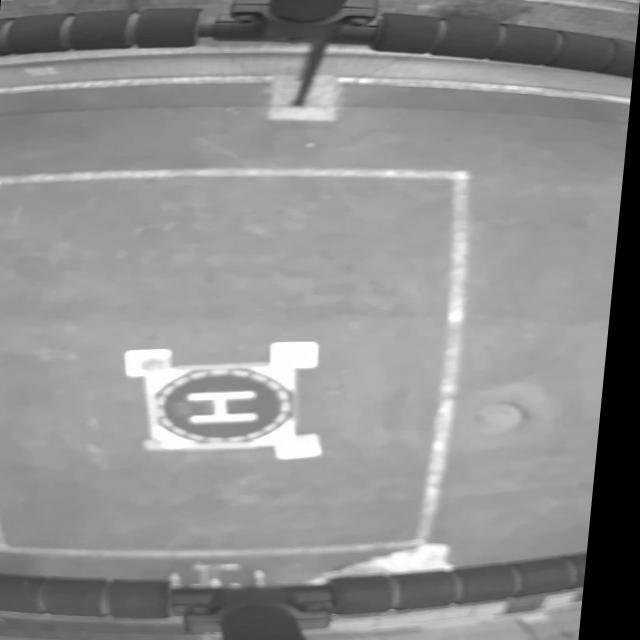Helipad: (192, 390, 265, 424)
